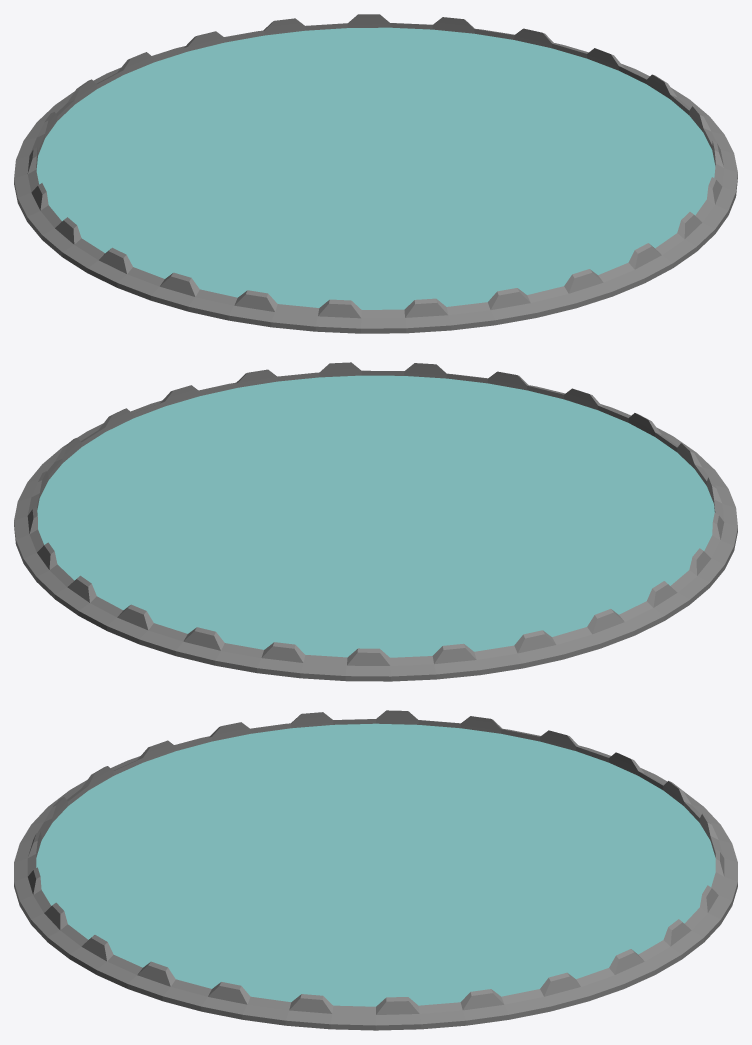
The model's file is Crossing_Base.fbx.
3 views of the same model, one above another, from view 1: azimuth 30°, elevation 25°; view 2: azimuth 150°, elevation 25°; view 3: azimuth 270°, elevation 25° (orthographic).
Visible parts, largest first — view 1: Crossing_Base; view 2: Crossing_Base; view 3: Crossing_Base.
Part boxes in pixels (x1,y1,x2,y2): Crossing_Base: [14, 14, 737, 333]; Crossing_Base: [14, 362, 737, 681]; Crossing_Base: [14, 710, 737, 1030].
Bounding box in the file's own units: 448 × 15.92 × 447.
